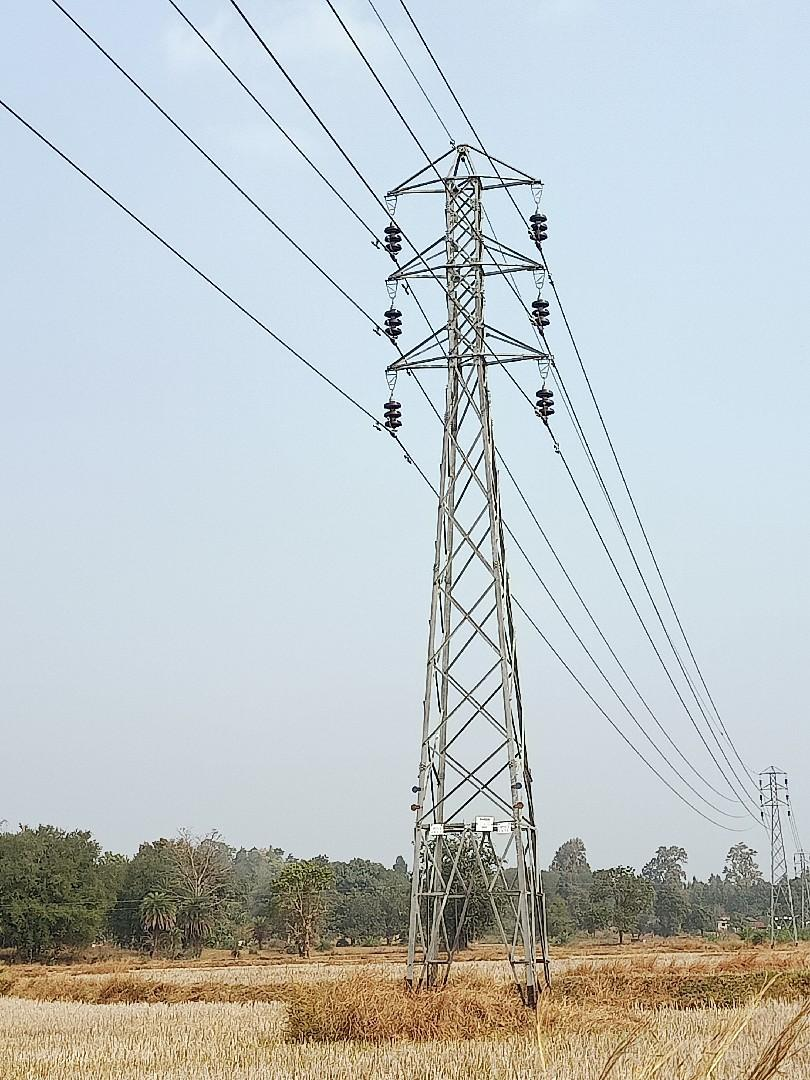GSM Antenna: (376, 137, 558, 947)
